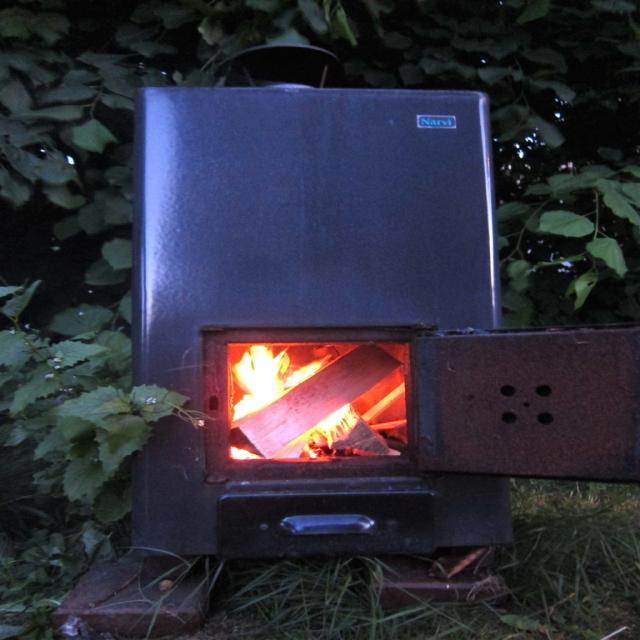Fire: (228, 341, 358, 462)
